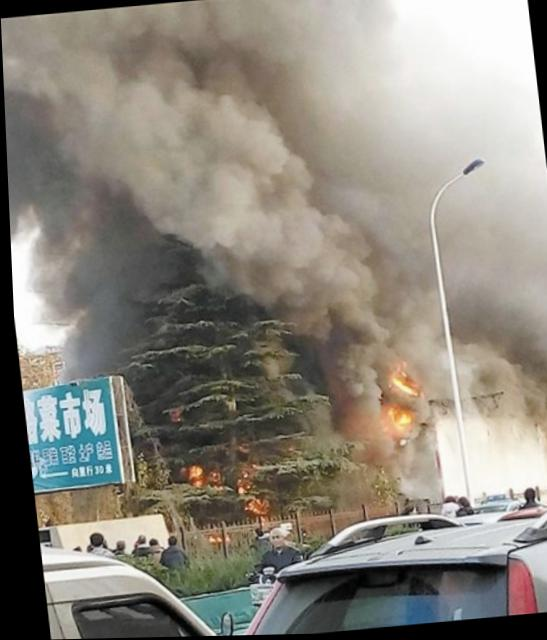fire: (171, 438, 269, 546), (368, 359, 432, 452)
